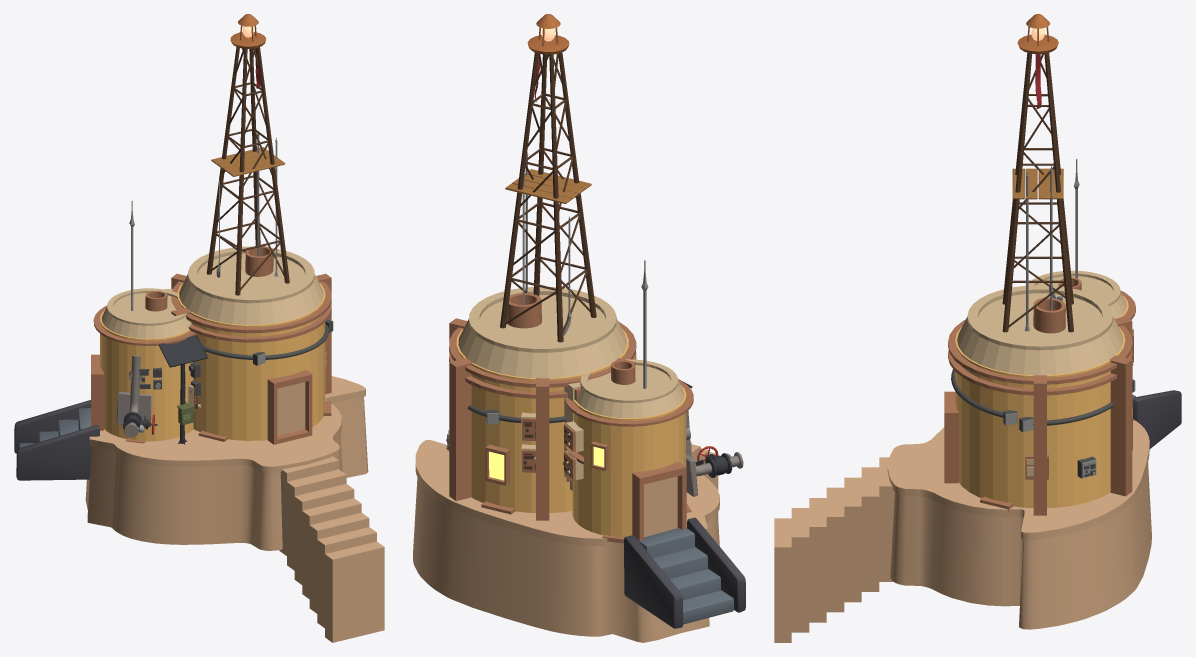
Rendered from nomad_building_b04.fbx.
3 views of the same model, side by side, from view 1: azimuth 30°, elevation 25°; view 2: azimuth 150°, elevation 25°; view 3: azimuth 270°, elevation 25° (orthographic). The views are drawn at different scales.
Parts seen in each view (by area): view 1: NomadBuilding_B04; view 2: NomadBuilding_B04; view 3: NomadBuilding_B04.
Part boxes in pixels (x1,y1,x2,y2): NomadBuilding_B04: (14,14,384,642); NomadBuilding_B04: (413,14,745,642); NomadBuilding_B04: (774,14,1181,642).
Size of the model in its own units: 1586 by 2593 by 1553.
